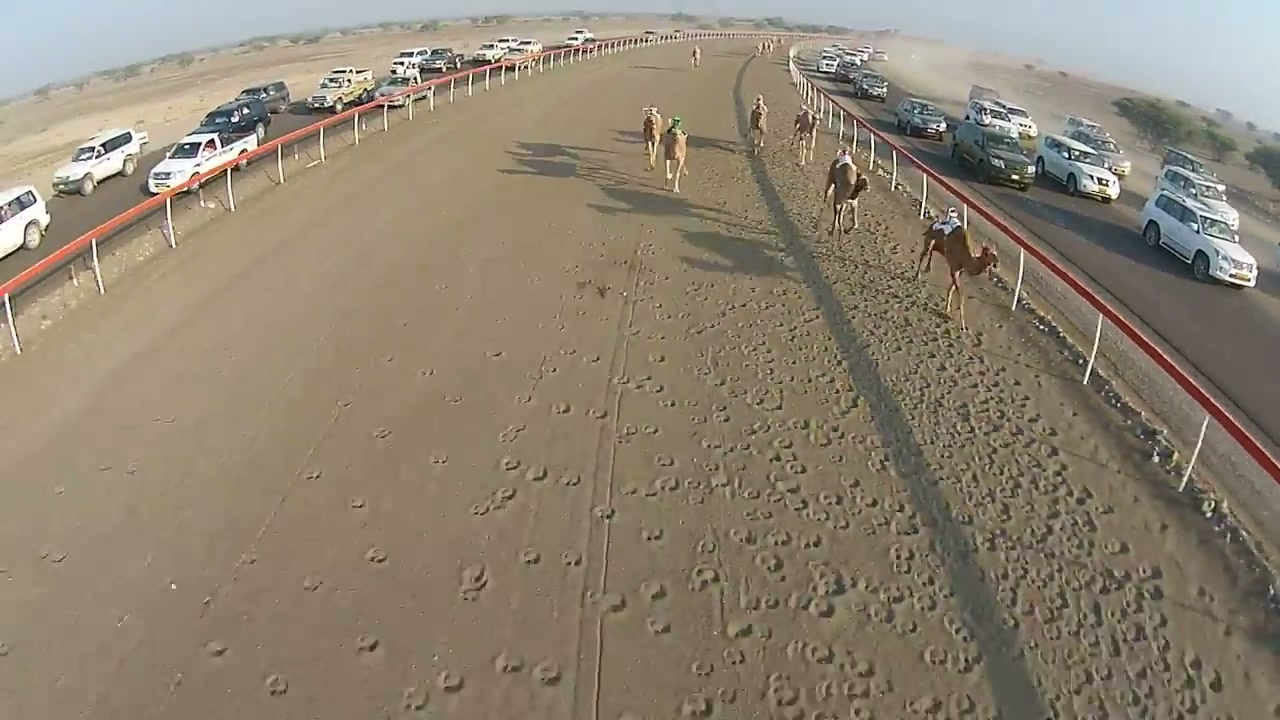animal_footprint: (159, 112, 1275, 719), (604, 187, 1184, 717)
